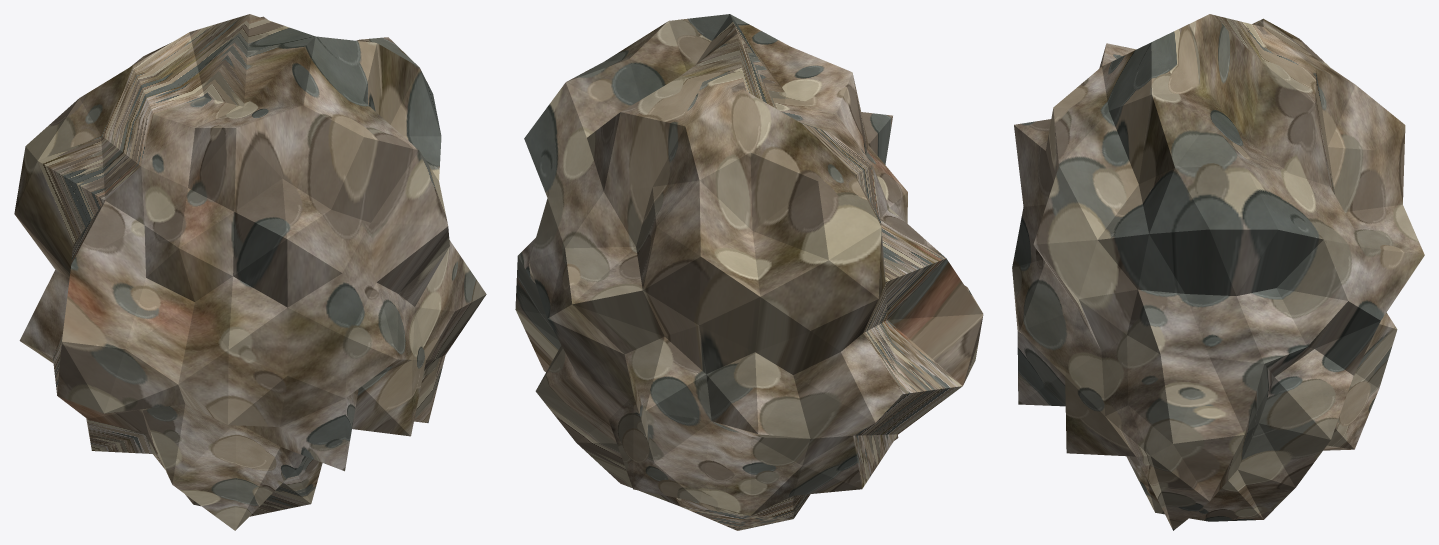
The model's file is nagelfluh_felsbrocken_01.glb.
The picture shows the model from 3 angles, left to right: view 1: azimuth 30°, elevation 25°; view 2: azimuth 150°, elevation 25°; view 3: azimuth 270°, elevation 25°; orthographic projection.
Visible parts, largest first — view 1: natural_conglomerate; view 2: natural_conglomerate; view 3: natural_conglomerate.
Part boxes in pixels (<box>): natural_conglomerate: <box>14,14,486,530</box>; natural_conglomerate: <box>515,14,983,530</box>; natural_conglomerate: <box>1012,14,1424,530</box>.
Bounding box in the file's own units: 2.95 × 3.24 × 2.39.
Materials: 1 (1 with a texture image).
